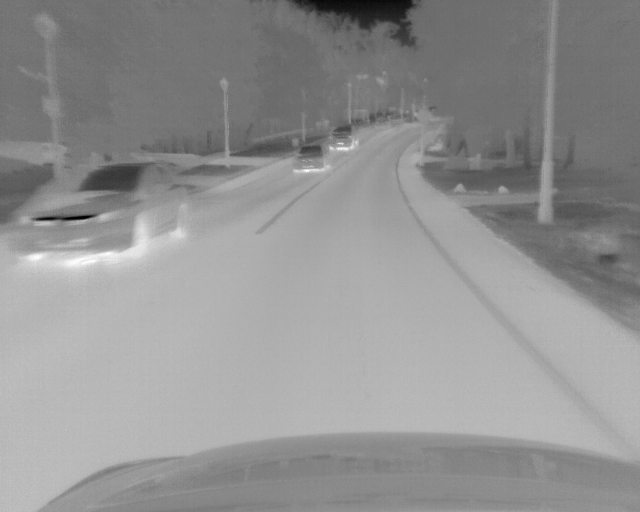car: (12, 160, 193, 261), (291, 143, 328, 173), (327, 125, 358, 151)
